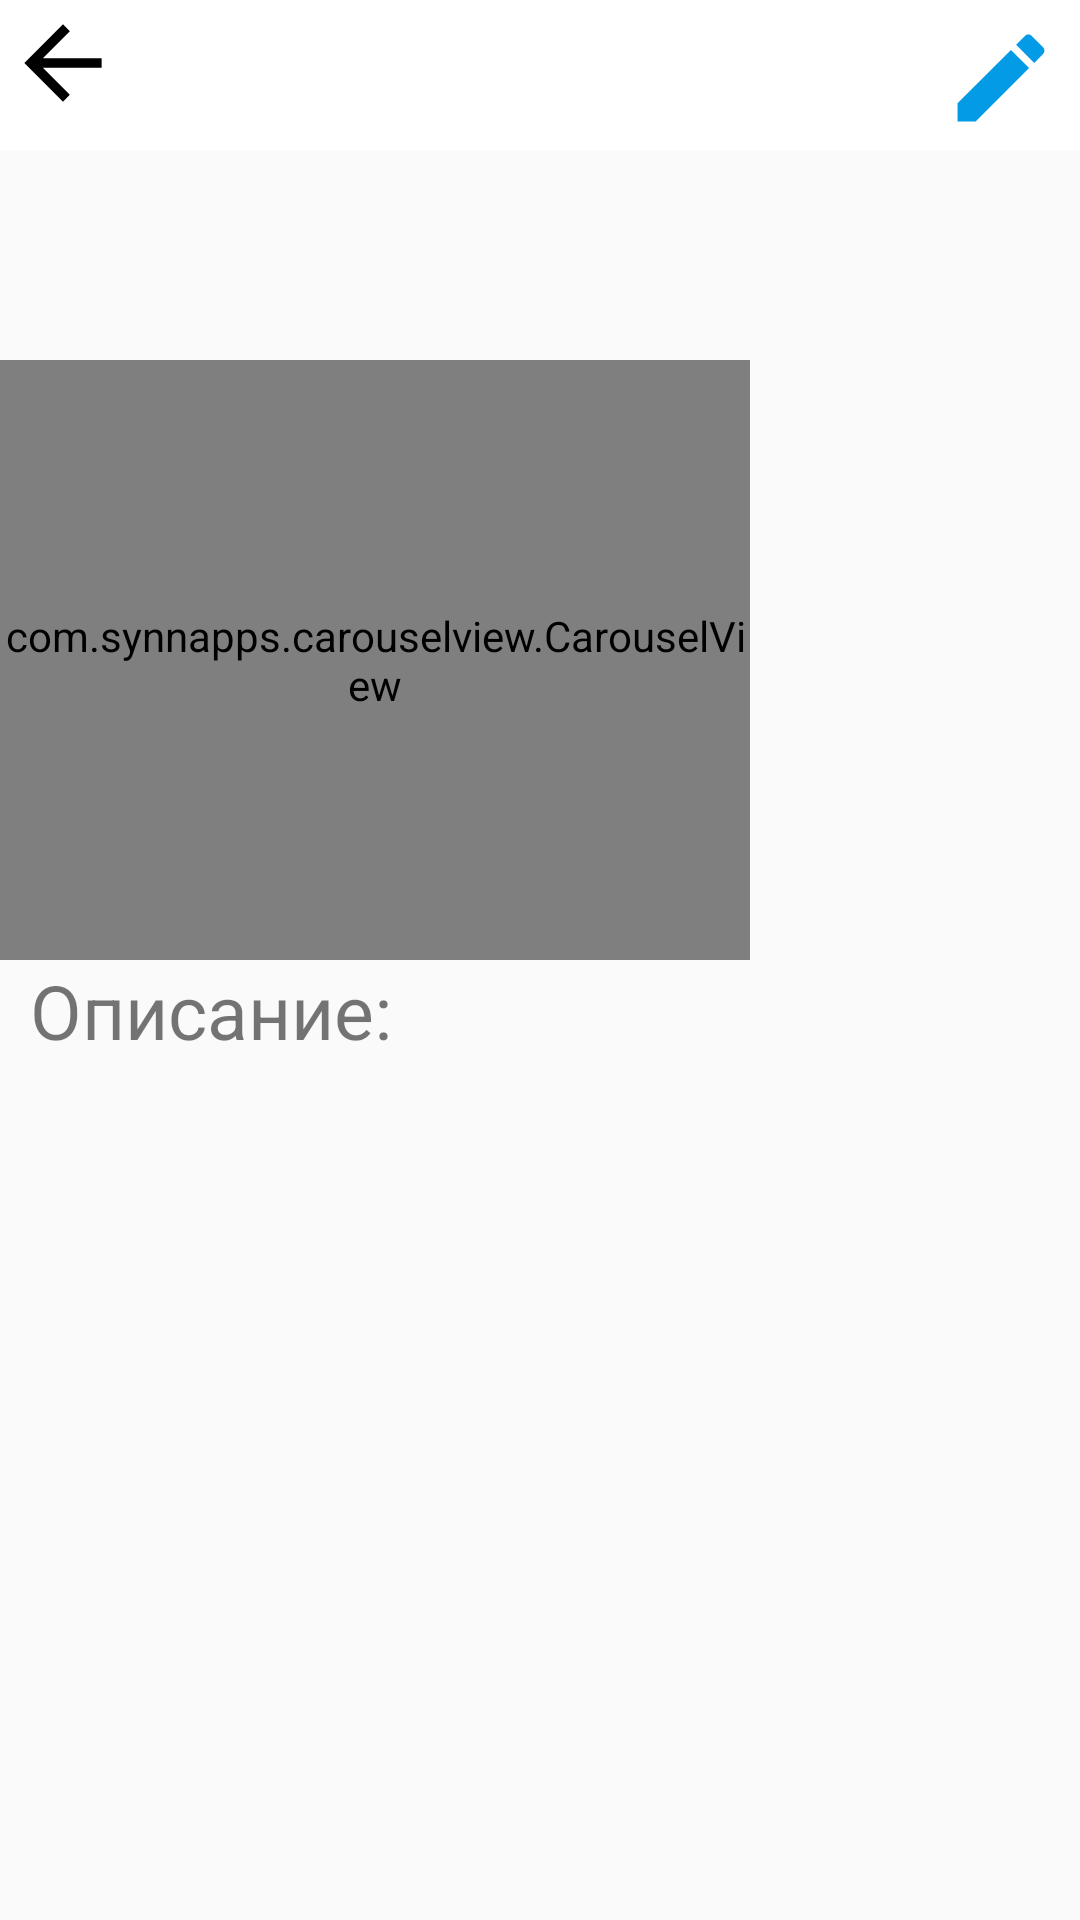

Icon click points for this 1080 x 1920 phone screenshot, format (x=x, y=y):
arrow back: (x=63, y=63)
edit add: (x=1001, y=78)
